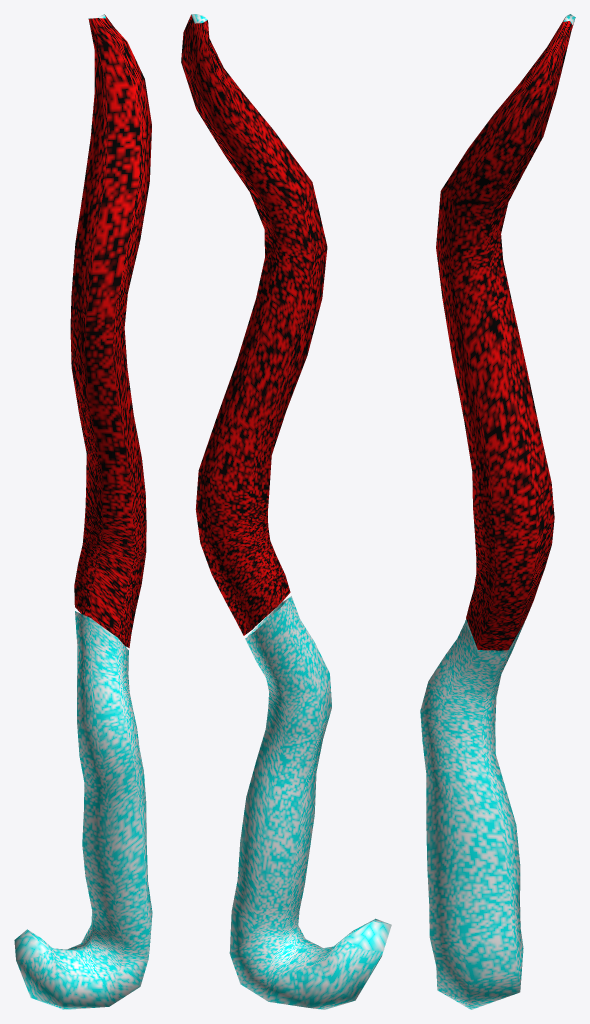
Rendered from SM_Tentacle_01_KMH.fbx.
The picture shows the model from 3 angles, left to right: view 1: azimuth 30°, elevation 25°; view 2: azimuth 150°, elevation 25°; view 3: azimuth 270°, elevation 25°; orthographic projection. The views are drawn at different scales.
Parts seen in each view (by area): view 1: SM_Tentacle_01_KMH; view 2: SM_Tentacle_01_KMH; view 3: SM_Tentacle_01_KMH.
Boxes of the visible parts, x1,y1,x2,y2 form: SM_Tentacle_01_KMH: [14, 14, 152, 1009]; SM_Tentacle_01_KMH: [181, 14, 391, 1009]; SM_Tentacle_01_KMH: [420, 14, 575, 1009].
Bounding box in the file's own units: 47.64 × 278 × 38.77.
